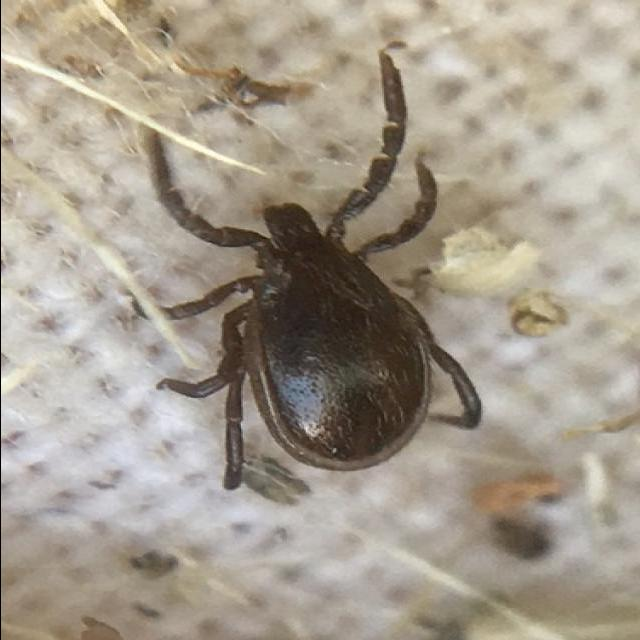Ixodes Ricinus-M: (145, 47, 483, 489)
